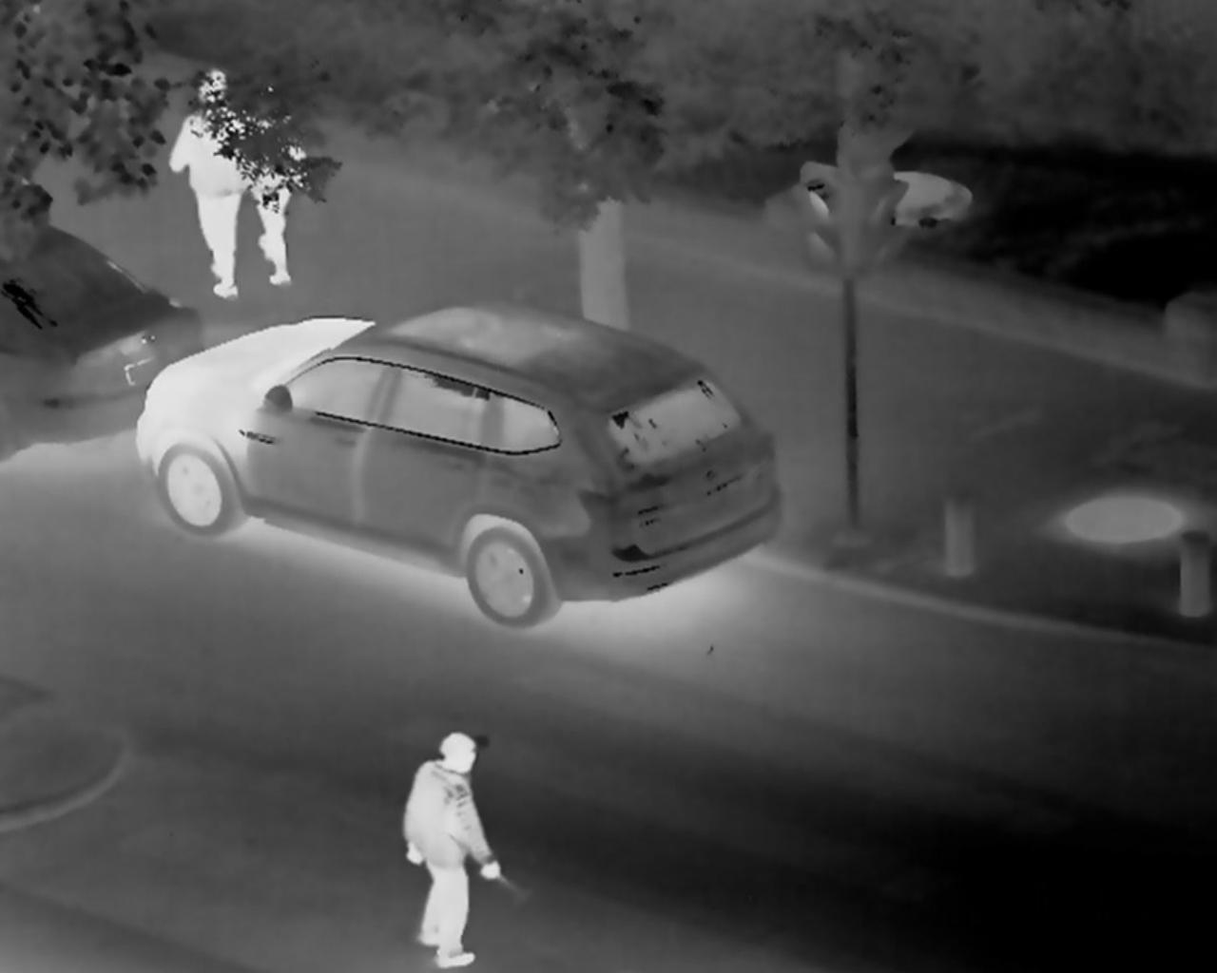person: (377, 716, 541, 967), (169, 54, 248, 311), (247, 86, 301, 277)
